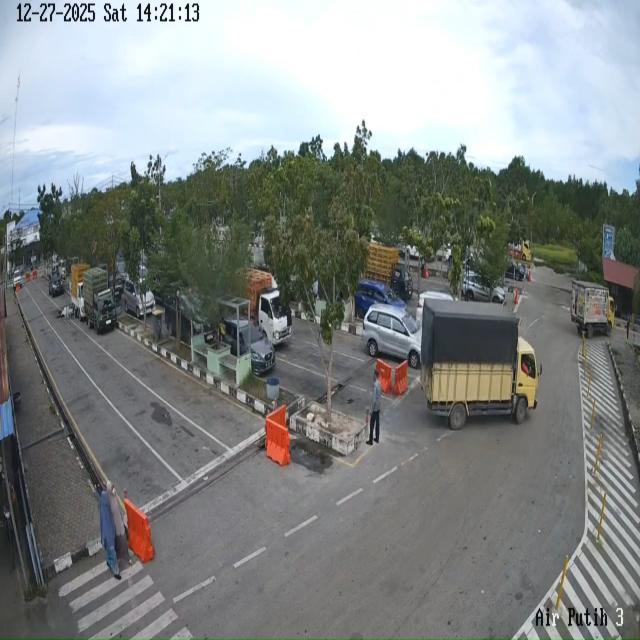Golongan IVA: (362, 304, 422, 369), (354, 279, 406, 319), (462, 271, 506, 304), (122, 280, 155, 318), (48, 271, 65, 297)
Golongan IVB: (244, 268, 292, 345), (83, 267, 116, 334), (70, 263, 90, 321)
Golongan VB: (421, 299, 542, 430), (571, 280, 615, 338)
